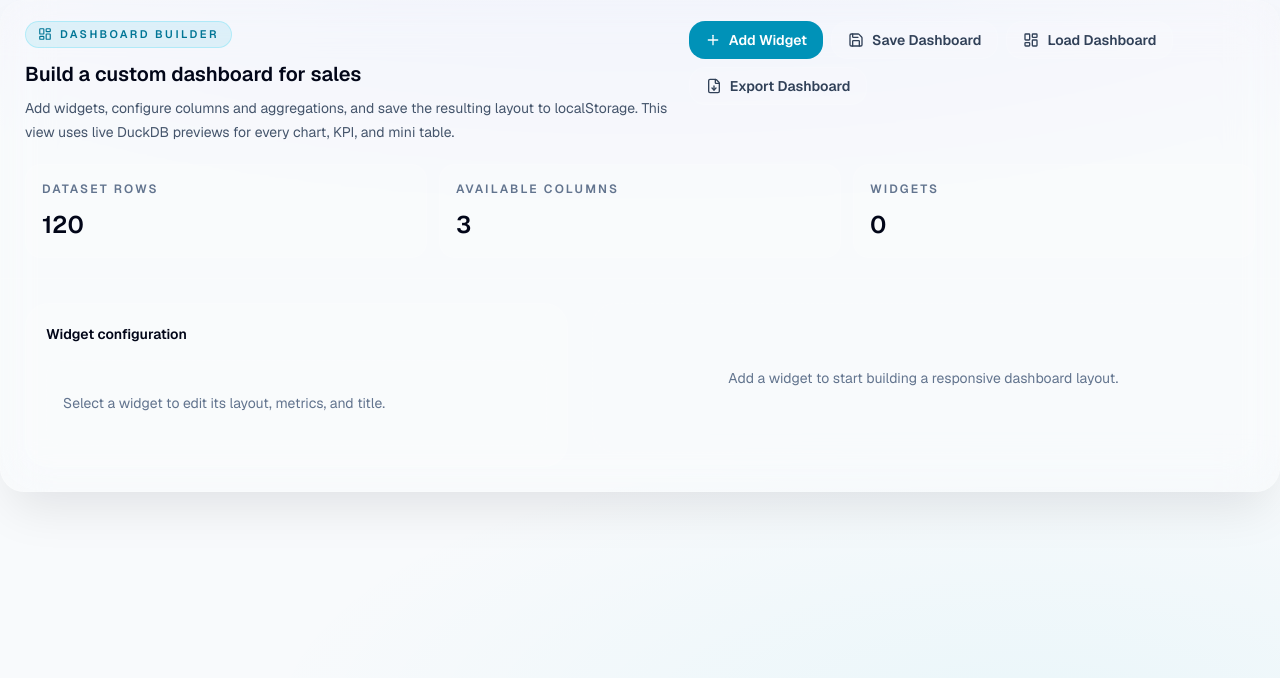
DashboardBuilder › shows widget preview failures from DuckDB
Click the button "Add Widget" at (756, 40), box [689,21,823,59]
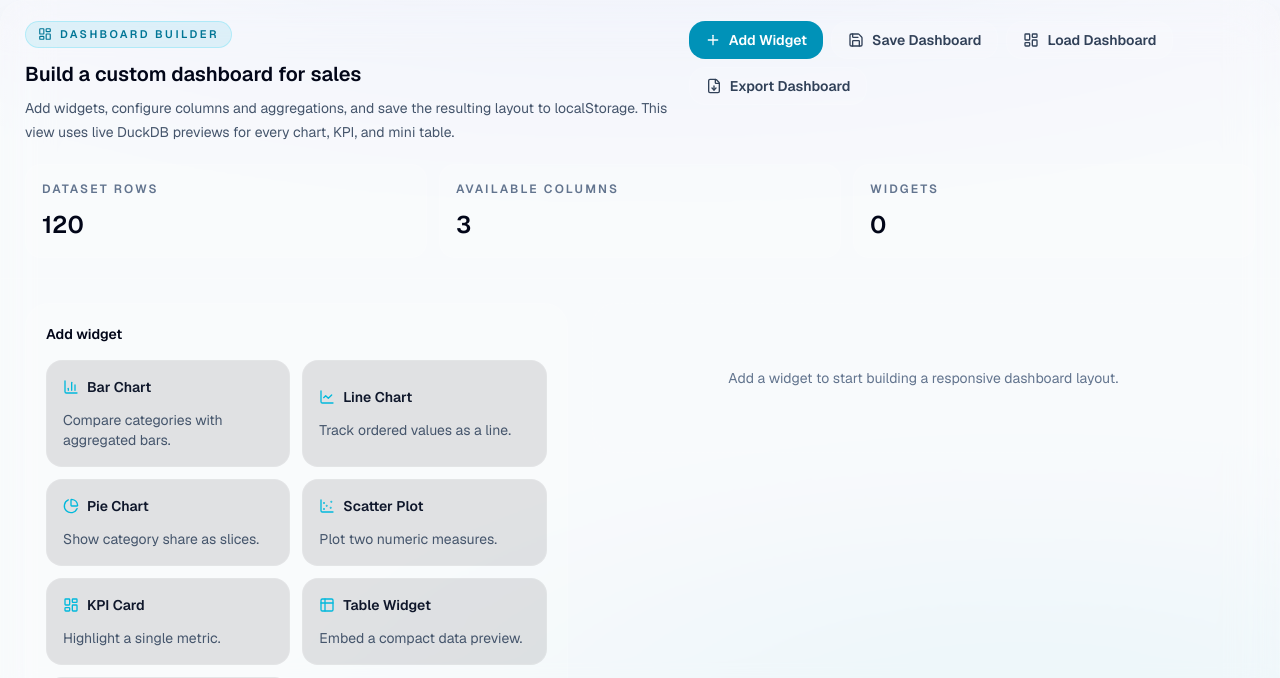
Click the button "Bar Chart Compare categories with aggregated bars." at (168, 414), box [46,360,290,467]
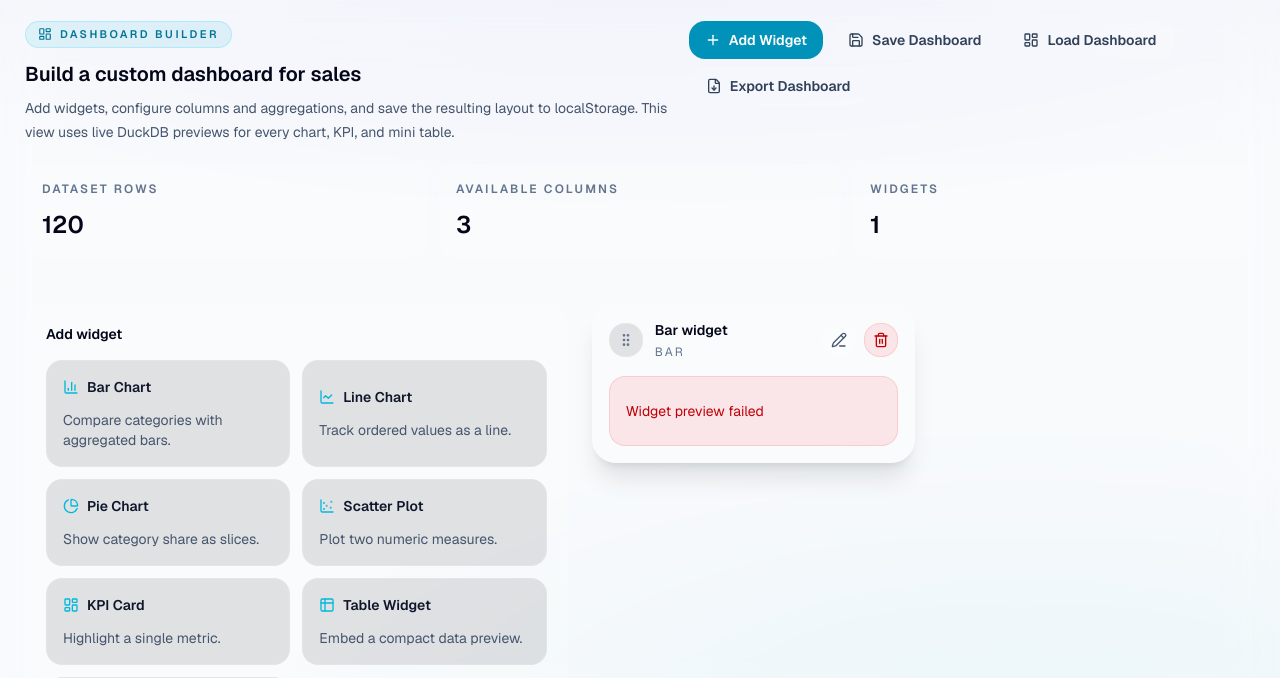
Check: the text "Widget preview failed" is shown, box [609,376,898,446]
